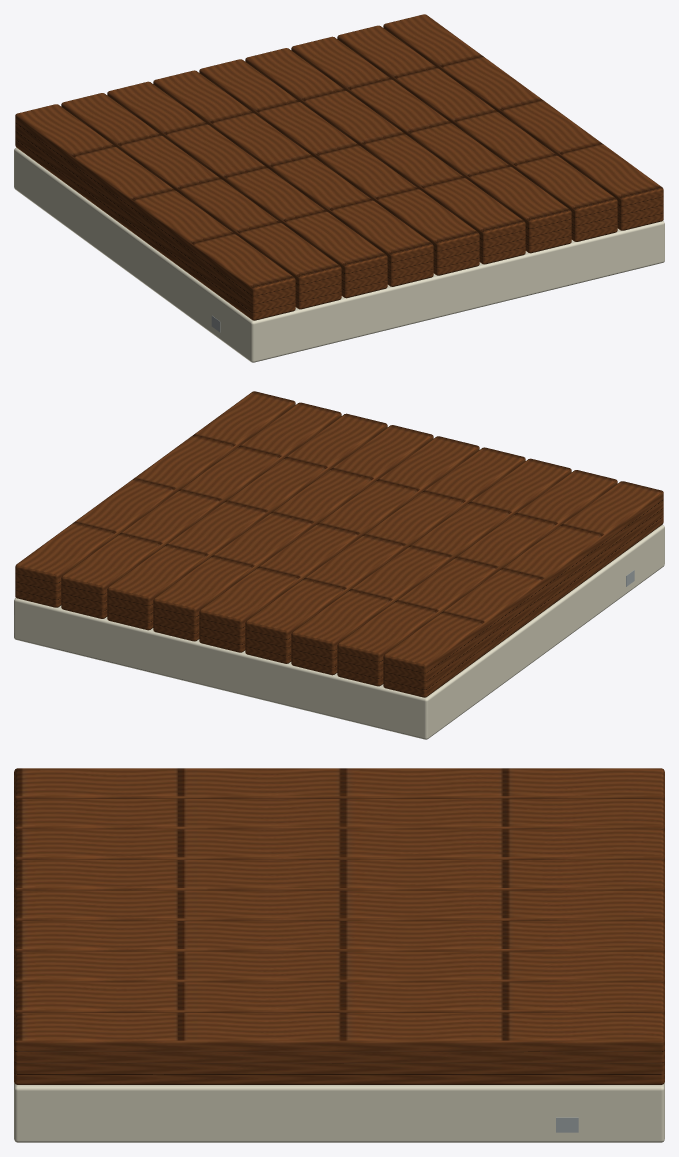
Rendered from modular-survival-base-builder-continuous-footing-reinf-12cf82b8__24267.glb.
3 views of the same model, one above another, from view 1: azimuth 30°, elevation 25°; view 2: azimuth 150°, elevation 25°; view 3: azimuth 270°, elevation 25° (orthographic). The views are drawn at different scales.
Parts seen in each view (by area): view 1: continuous-footing-reinforced; view 2: continuous-footing-reinforced; view 3: continuous-footing-reinforced.
Boxes of the visible parts, x1,y1,x2,y2 form: continuous-footing-reinforced: (14,14,664,362); continuous-footing-reinforced: (14,391,664,739); continuous-footing-reinforced: (14,768,664,1142).
Bounding box in the file's own units: 2 × 0.3499 × 2.
3 materials, 1 textured.
